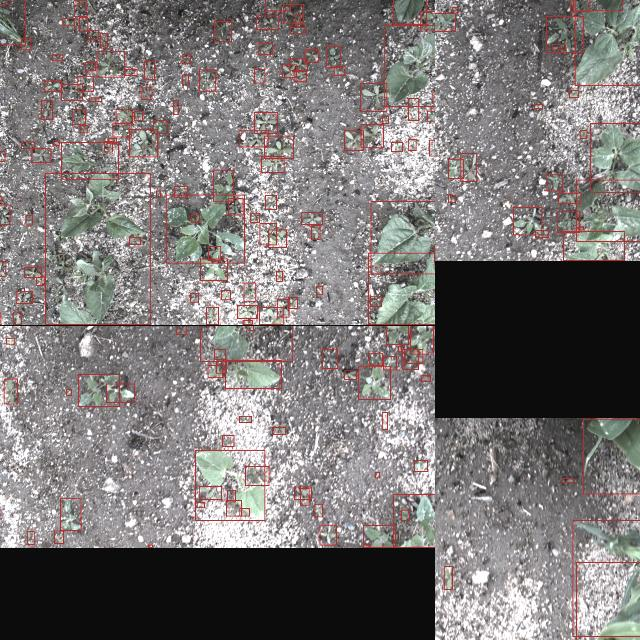crop: (44, 173, 150, 325), (572, 519, 640, 636), (574, 0, 640, 85), (194, 450, 264, 520), (368, 253, 435, 325), (369, 201, 435, 274), (582, 418, 640, 493), (383, 25, 435, 106), (575, 180, 640, 242), (590, 123, 640, 192), (199, 326, 291, 360), (61, 143, 118, 180), (563, 232, 623, 260), (224, 359, 280, 388), (392, 0, 425, 24)
weed: (165, 195, 243, 263), (392, 494, 435, 547), (78, 374, 119, 406), (546, 16, 582, 52), (0, 0, 24, 44), (358, 366, 390, 399), (512, 207, 542, 235), (360, 83, 386, 111), (129, 130, 157, 156), (363, 526, 395, 548), (96, 52, 124, 76), (409, 326, 432, 354), (213, 170, 233, 202), (60, 499, 80, 531), (264, 136, 292, 158), (199, 259, 227, 281), (106, 383, 134, 402), (360, 124, 382, 148), (254, 112, 276, 134), (244, 466, 268, 486), (239, 130, 267, 146), (460, 153, 476, 181), (557, 212, 579, 232), (213, 20, 231, 42), (386, 326, 408, 344), (260, 156, 284, 172), (258, 308, 282, 324), (343, 130, 362, 150), (258, 223, 276, 244), (3, 378, 17, 404), (198, 70, 216, 90), (283, 4, 303, 22), (60, 84, 82, 100), (435, 13, 454, 31), (268, 230, 286, 248), (321, 349, 337, 369), (319, 525, 335, 545), (402, 349, 418, 369), (256, 15, 278, 29), (326, 45, 340, 67), (419, 10, 435, 29), (199, 486, 221, 499), (448, 159, 462, 179), (546, 173, 562, 190), (31, 148, 50, 162), (558, 192, 580, 204), (404, 349, 422, 363), (264, 0, 289, 10), (237, 306, 257, 318), (301, 213, 321, 225), (228, 199, 242, 215), (77, 76, 93, 90), (116, 109, 132, 123), (226, 500, 240, 516), (40, 100, 51, 120), (408, 98, 418, 120), (243, 283, 255, 301), (289, 58, 307, 70), (276, 299, 288, 317), (112, 124, 130, 136), (569, 0, 588, 11), (294, 486, 310, 499), (144, 60, 154, 80), (282, 64, 296, 78), (152, 120, 166, 134), (382, 356, 396, 370), (16, 292, 32, 304), (206, 308, 218, 324), (24, 266, 40, 278), (443, 566, 451, 590), (304, 49, 318, 62), (43, 81, 61, 91), (0, 205, 9, 225), (258, 42, 272, 54), (72, 110, 84, 124), (264, 195, 276, 209), (208, 246, 220, 260), (208, 365, 222, 377), (368, 353, 382, 365), (310, 224, 320, 240), (140, 87, 152, 99), (174, 186, 186, 198), (74, 4, 86, 16), (300, 488, 308, 506), (254, 69, 264, 83), (78, 17, 88, 31), (414, 461, 426, 472), (293, 71, 305, 81), (222, 436, 234, 446), (216, 361, 226, 373), (344, 370, 356, 380), (290, 26, 304, 34), (534, 230, 548, 238), (54, 530, 62, 544), (314, 504, 322, 518), (391, 142, 402, 152), (20, 39, 30, 50), (213, 349, 224, 359), (220, 290, 230, 300), (334, 66, 344, 76), (370, 296, 380, 306), (287, 298, 297, 308), (87, 30, 97, 40), (408, 139, 416, 151), (429, 140, 435, 156), (104, 140, 112, 152), (100, 32, 106, 48), (62, 18, 74, 26), (12, 312, 20, 324), (426, 111, 435, 121), (176, 326, 186, 335), (227, 491, 235, 502), (172, 100, 178, 114), (128, 238, 140, 245), (551, 44, 565, 50), (27, 531, 33, 545), (238, 416, 252, 422), (85, 62, 95, 70), (249, 214, 259, 222), (239, 508, 249, 516), (400, 510, 408, 520), (21, 142, 34, 148), (0, 261, 5, 276), (124, 69, 136, 75), (272, 428, 284, 434), (382, 412, 386, 430), (181, 54, 189, 62), (79, 125, 87, 133), (189, 294, 197, 302), (191, 214, 199, 222), (35, 277, 43, 285), (134, 112, 142, 120), (52, 54, 62, 60), (25, 215, 31, 225), (276, 272, 282, 282), (294, 14, 300, 24), (568, 90, 578, 96), (420, 375, 430, 381), (106, 138, 115, 144), (182, 76, 188, 84), (89, 97, 101, 101), (316, 287, 322, 295), (580, 130, 586, 138), (5, 338, 13, 344), (196, 502, 204, 508), (448, 195, 454, 202), (242, 321, 252, 325), (0, 151, 4, 161), (562, 478, 572, 482), (381, 116, 387, 122), (52, 140, 58, 146), (451, 7, 457, 13), (533, 104, 541, 108), (432, 91, 435, 100), (156, 191, 160, 197), (66, 389, 70, 395), (363, 544, 369, 548), (375, 472, 379, 478), (397, 346, 401, 352), (247, 326, 252, 330), (147, 544, 151, 548), (578, 228, 582, 230)
